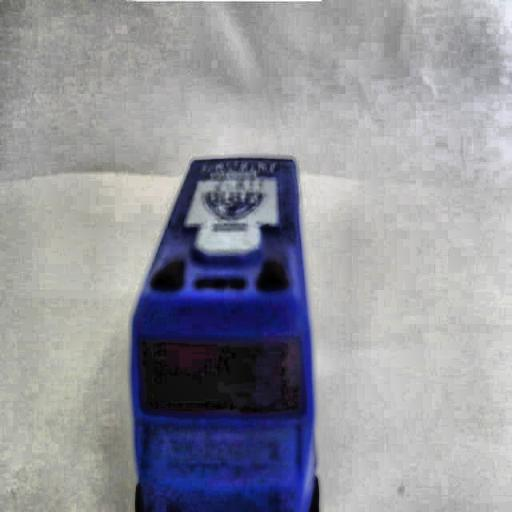police car: (123, 142, 327, 512)
